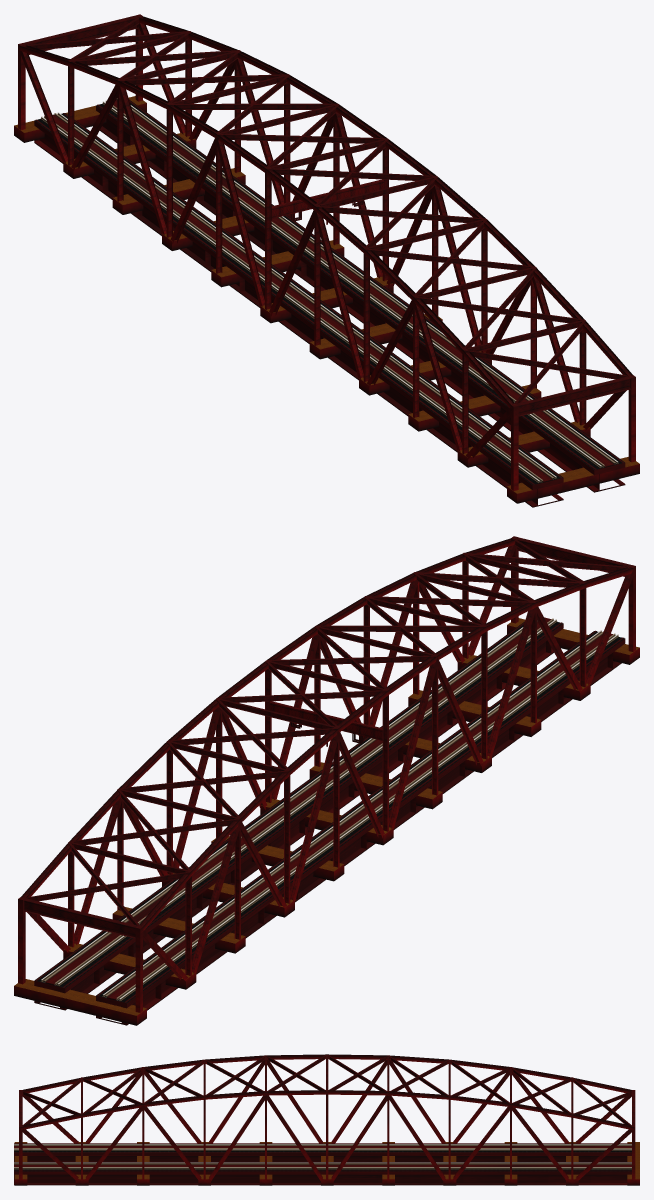
File: MEI_2RAIL_KISOGAWA.glb
3 renders of one model, top to bottom at view 1: azimuth 30°, elevation 25°; view 2: azimuth 150°, elevation 25°; view 3: azimuth 270°, elevation 25°, orthographic. The views are drawn at different scales.
Visible parts, largest first — view 1: obj19; view 2: obj19; view 3: obj19.
Part boxes in pixels (bbox=[...]): obj19: bbox=[14, 14, 639, 507]; obj19: bbox=[14, 536, 639, 1025]; obj19: bbox=[14, 1054, 639, 1185].
Bounding box in the file's own units: 25.9 × 31.89 × 184.
Materials: 6 (6 with a texture image).
